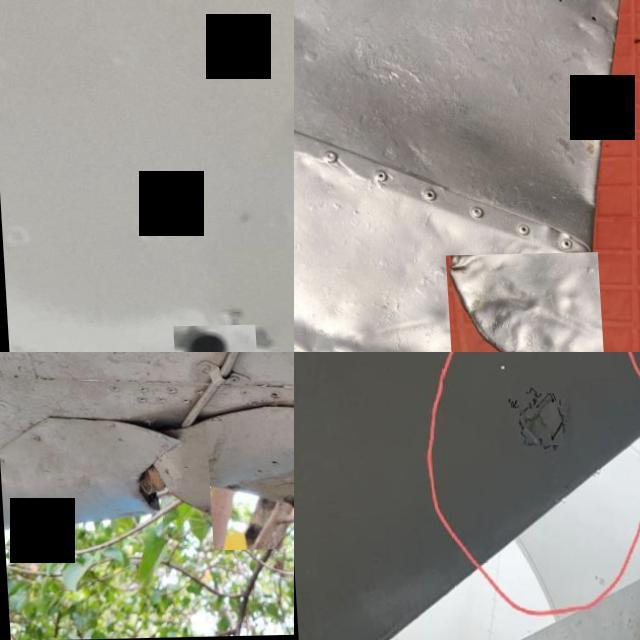Crack: (516, 395, 557, 447)
Dent: (442, 254, 599, 352), (200, 417, 294, 551), (294, 263, 435, 352)
Missing_Fastener: (167, 325, 251, 352)
